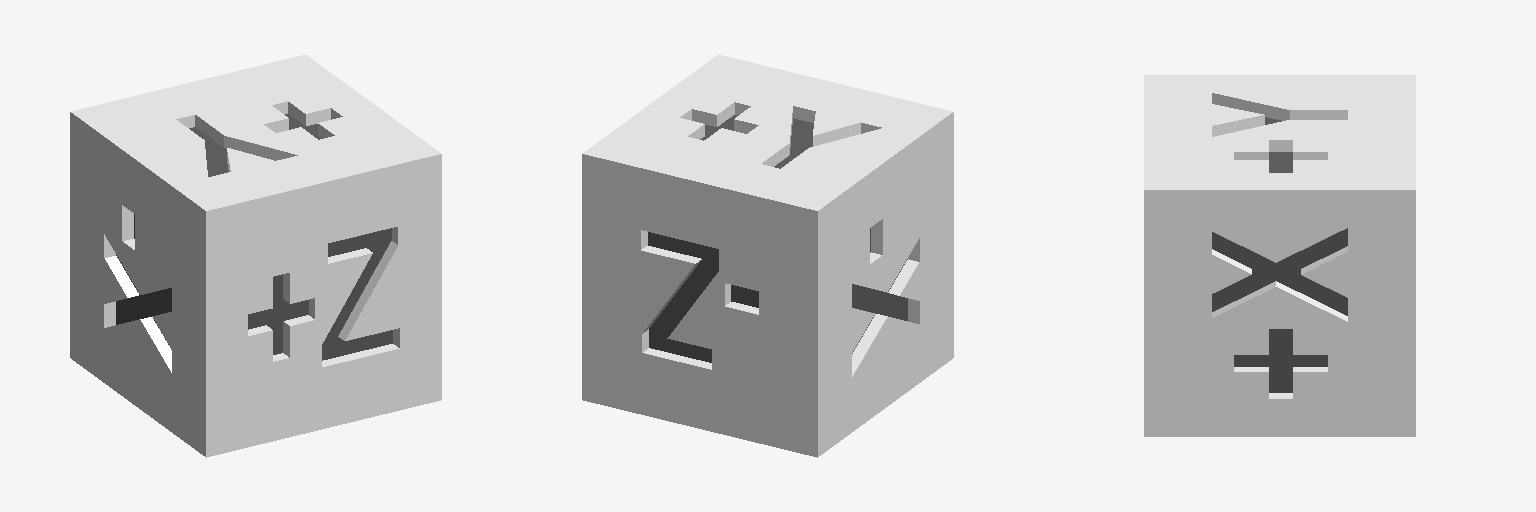
The model's file is MaterialCube.obj.
The picture shows the model from 3 angles: view 1: azimuth 30°, elevation 25°; view 2: azimuth 150°, elevation 25°; view 3: azimuth 270°, elevation 25°; orthographic projection.
Parts seen in each view (by area): view 1: Cube; view 2: Cube; view 3: Cube.
Boxes of the visible parts, box(x1,y1,x2,y2) form: Cube: box(70, 54, 441, 457); Cube: box(582, 54, 953, 457); Cube: box(1144, 75, 1415, 436).
Bounding box in the file's own units: 1 × 1 × 1.